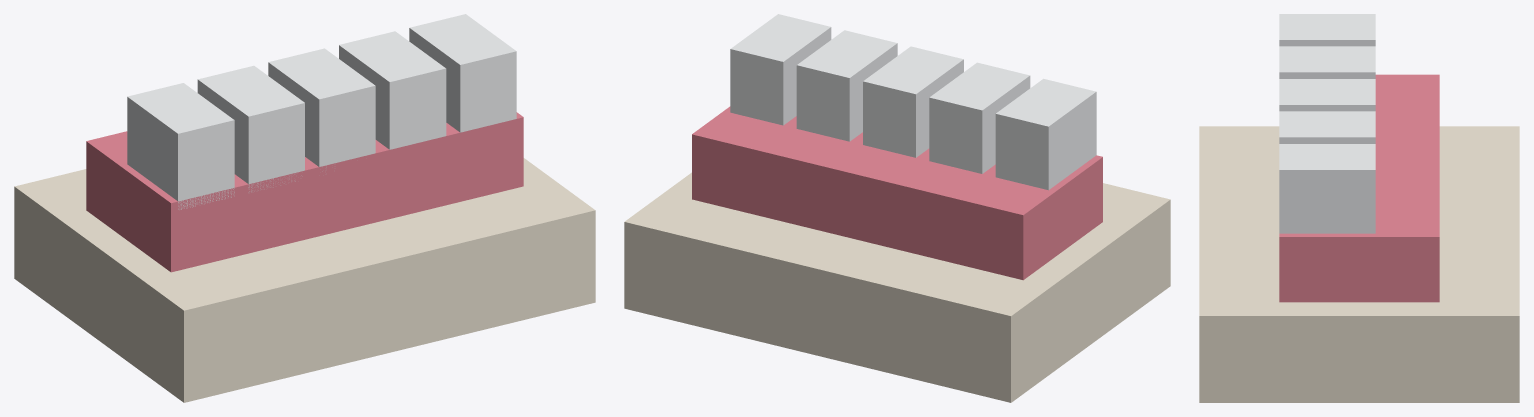
File: denture_mold.glb
3 views of the same model, side by side, from view 1: azimuth 30°, elevation 25°; view 2: azimuth 150°, elevation 25°; view 3: azimuth 270°, elevation 25° (orthographic). The views are drawn at different scales.
Visible parts, largest first — view 1: base_plaster, mold_dental_white, mold_gum_pink; view 2: base_plaster, mold_gum_pink, mold_dental_white; view 3: base_plaster, mold_gum_pink, mold_dental_white.
Boxes of the visible parts, bbox=[...] form: base_plaster: bbox=[14, 158, 595, 402]; mold_dental_white: bbox=[127, 14, 516, 209]; mold_gum_pink: bbox=[86, 112, 523, 272]; base_plaster: bbox=[624, 172, 1170, 402]; mold_gum_pink: bbox=[692, 106, 1102, 280]; mold_dental_white: bbox=[730, 14, 1096, 190]; base_plaster: bbox=[1199, 126, 1519, 402]; mold_gum_pink: bbox=[1279, 74, 1439, 302]; mold_dental_white: bbox=[1279, 14, 1375, 233].
Size of the model in its own units: 0.14 by 0.0745 by 0.1.
